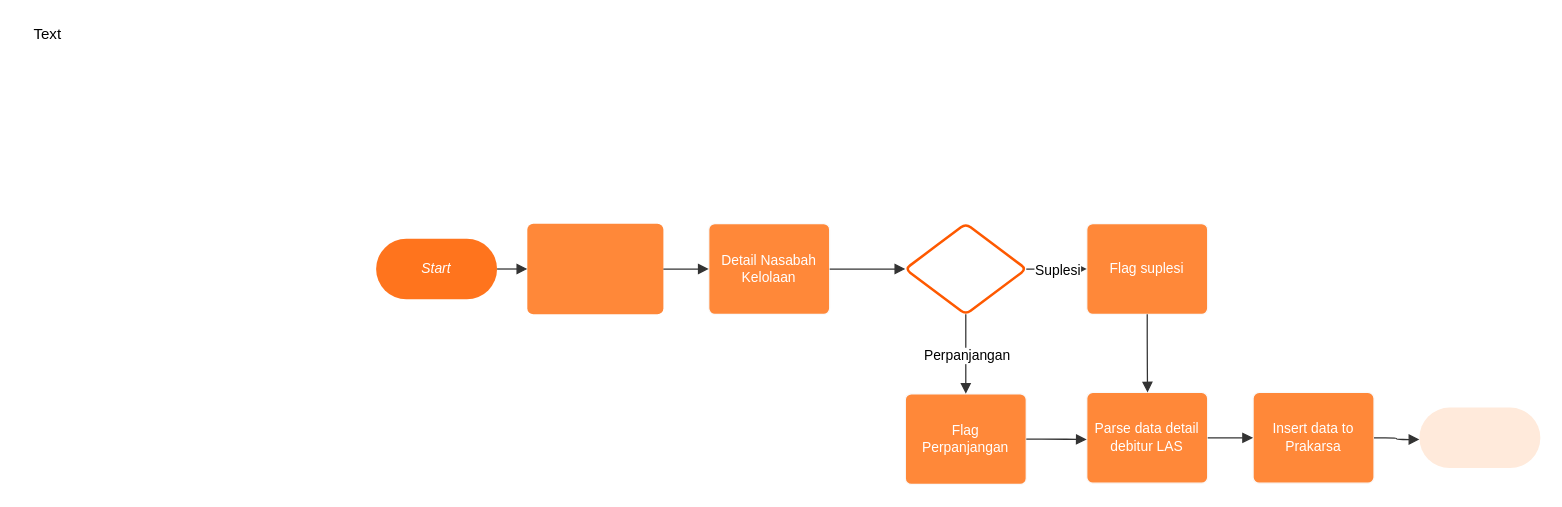
This 1562x507 diagram has some shape labels left out. The centre of each missing label's shape, as x and y in pixels:
"Inquiry ListNasabahKelolaan" goes at pixel 594 268.
"Lanjut Prakarsa" goes at pixel 1479 437.
"Suplesi / Perpanjangan" goes at pixel 965 268.
